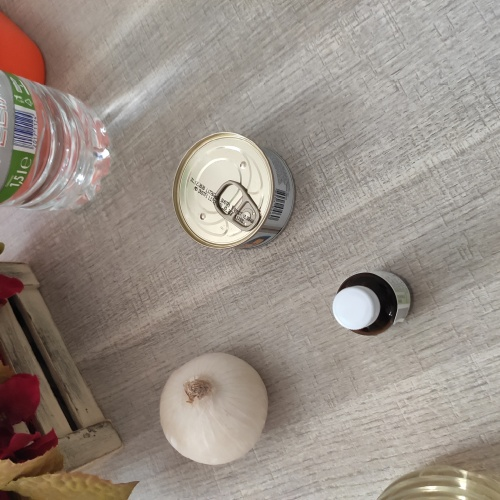cipolla: (154, 347, 276, 468)
tonno: (165, 130, 295, 253)
